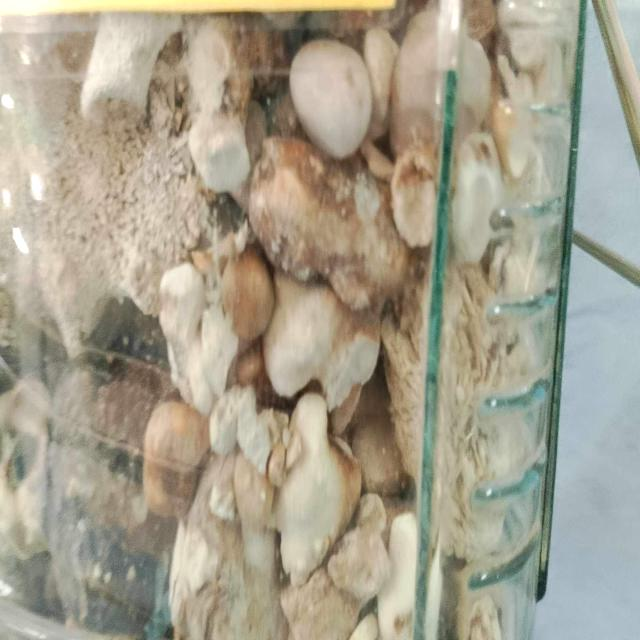General: (4, 2, 583, 637)
Sharps: (411, 1, 469, 637)
